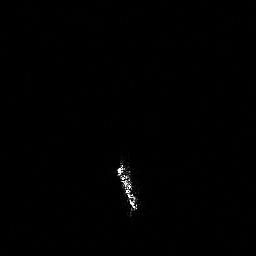ship: (115, 158, 143, 218)
